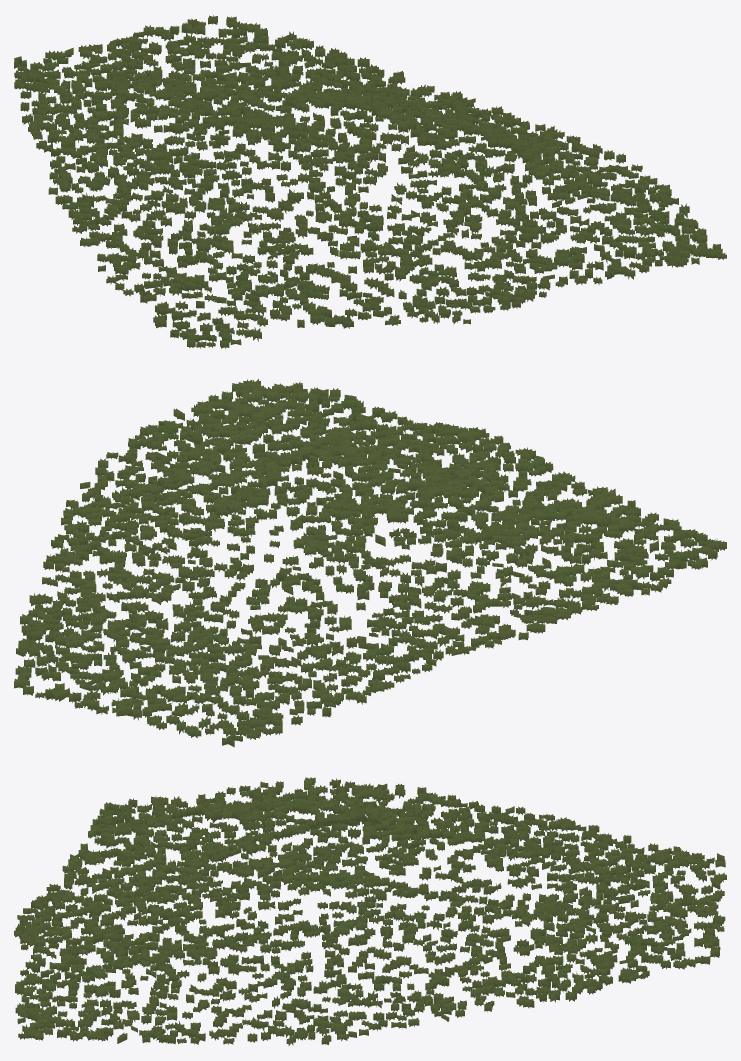
The model's file is TRB8-GRASS-CHUNK-8-2.glb.
3 views of the same model, one above another, from view 1: azimuth 30°, elevation 25°; view 2: azimuth 150°, elevation 25°; view 3: azimuth 270°, elevation 25° (orthographic). The views are drawn at different scales.
Visible parts, largest first — view 1: TRB8-GRASS-CHUNK-8-2; view 2: TRB8-GRASS-CHUNK-8-2; view 3: TRB8-GRASS-CHUNK-8-2.
Part boxes in pixels (box(x1,y1,x2,y2)): TRB8-GRASS-CHUNK-8-2: box(14, 15, 726, 348); TRB8-GRASS-CHUNK-8-2: box(14, 379, 726, 747); TRB8-GRASS-CHUNK-8-2: box(14, 777, 726, 1045).
Bounding box in the file's own units: 29.6 × 4.7 × 35.83.
Materials: 1 (1 with a texture image).
